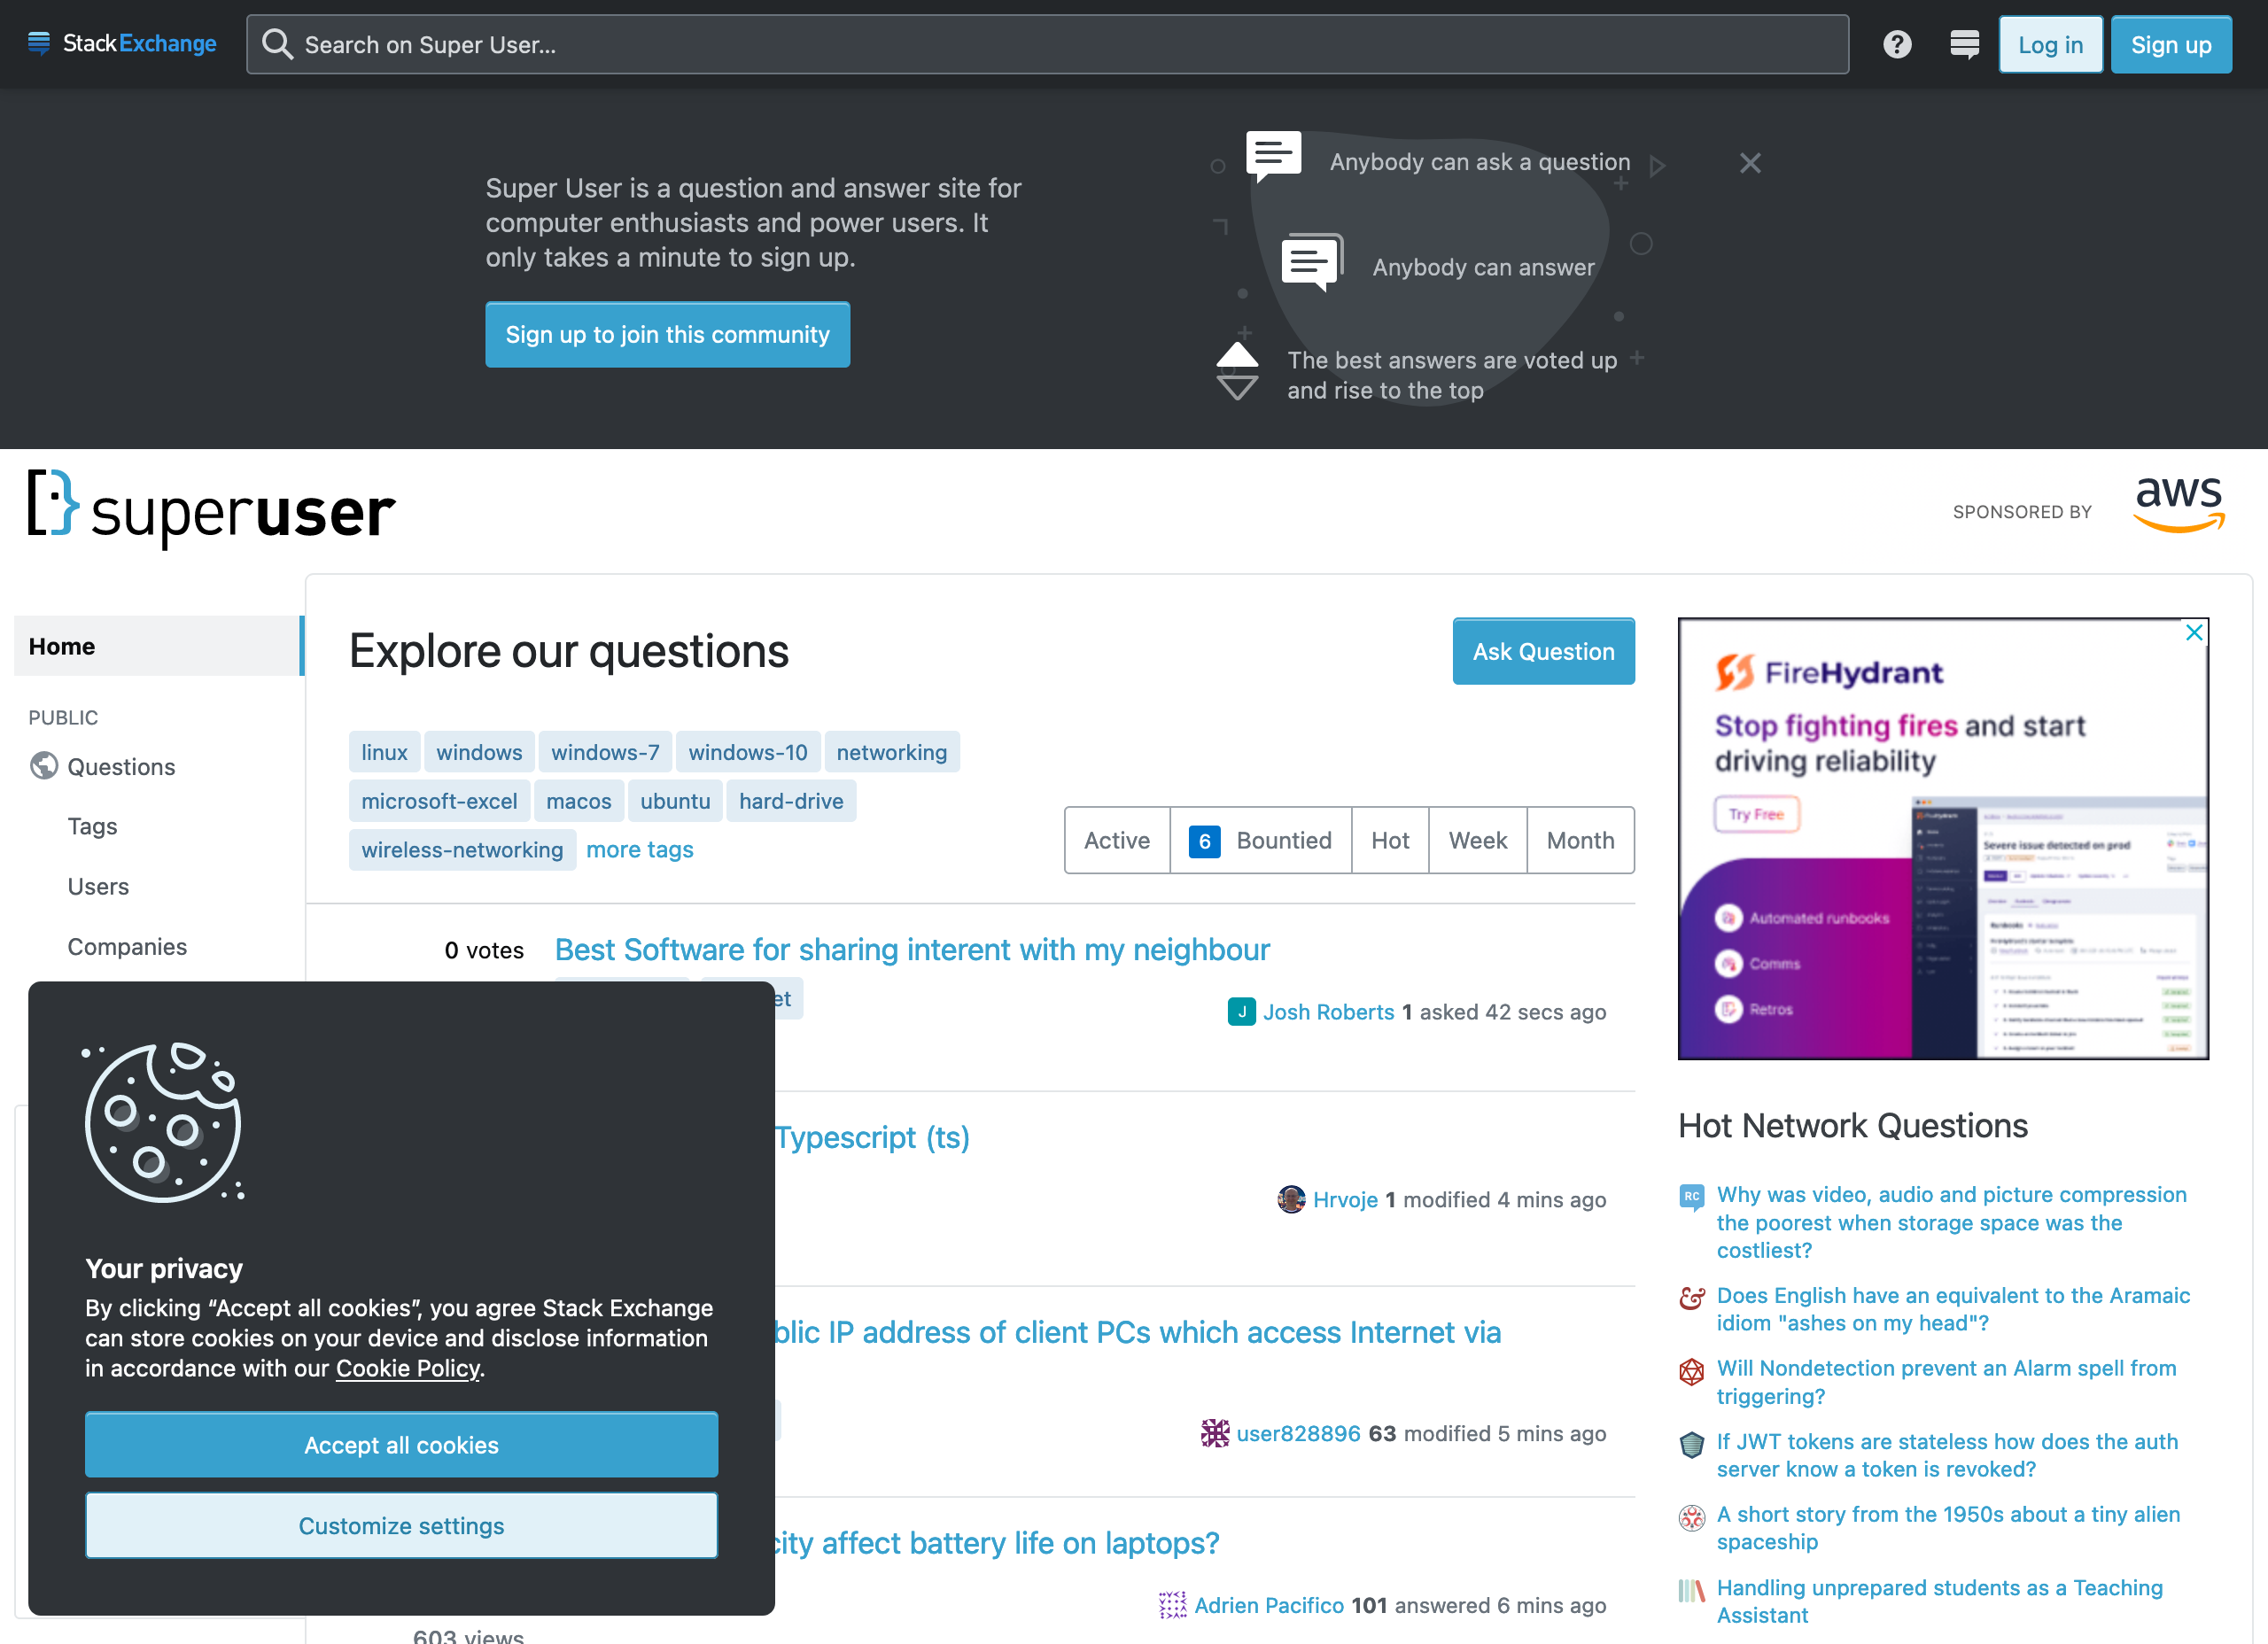Login: (1993, 11, 2104, 76)
